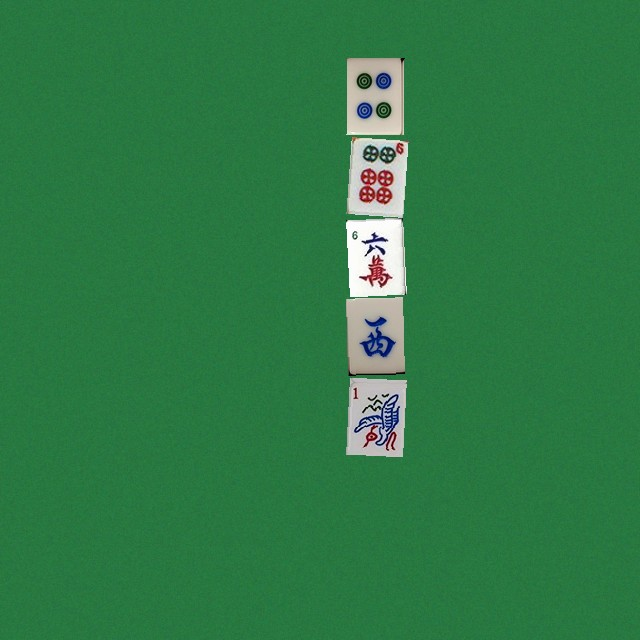tile: (346, 57, 403, 134), (346, 137, 403, 214), (346, 217, 403, 294), (346, 297, 403, 374), (346, 377, 403, 454)
